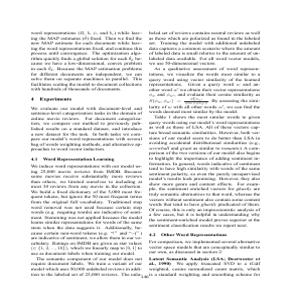text: (146, 28, 262, 281), (28, 30, 145, 279)
